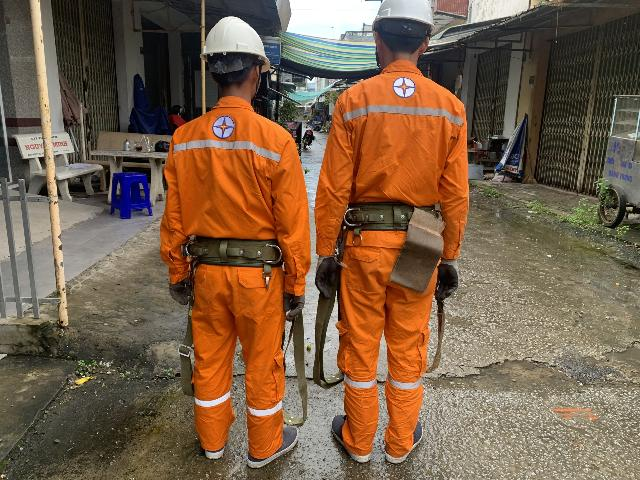gloves: (154, 264, 211, 314), (424, 250, 472, 306), (307, 247, 341, 302), (277, 278, 311, 328)
harness: (152, 212, 299, 282), (335, 174, 450, 244)
helmet: (202, 15, 284, 79), (367, 0, 442, 40)
shoes: (244, 417, 307, 467), (325, 410, 379, 466), (387, 411, 430, 466), (195, 412, 227, 472)
